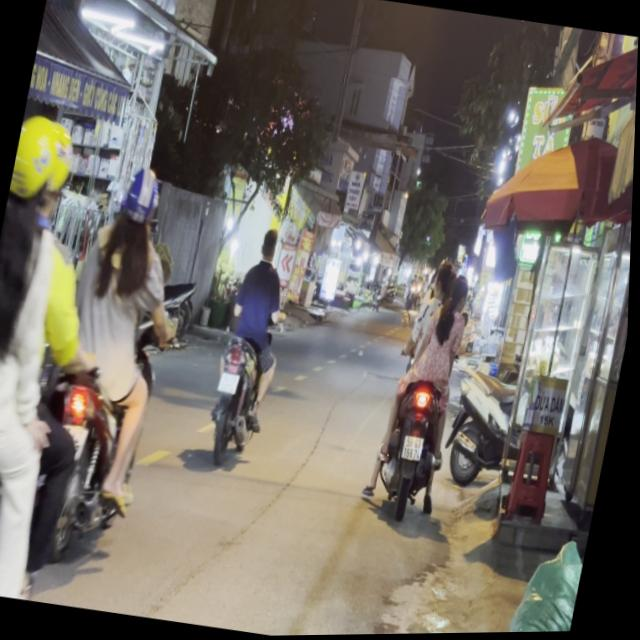helmet: (6, 110, 81, 226), (115, 163, 166, 237)
licenseplate: (20, 156, 205, 582), (0, 105, 148, 604), (363, 246, 487, 528), (201, 221, 304, 470)
motorcyclist: (433, 258, 462, 303), (449, 271, 474, 314), (258, 227, 281, 263)
nohelmet: (403, 434, 428, 462), (220, 371, 243, 394)
